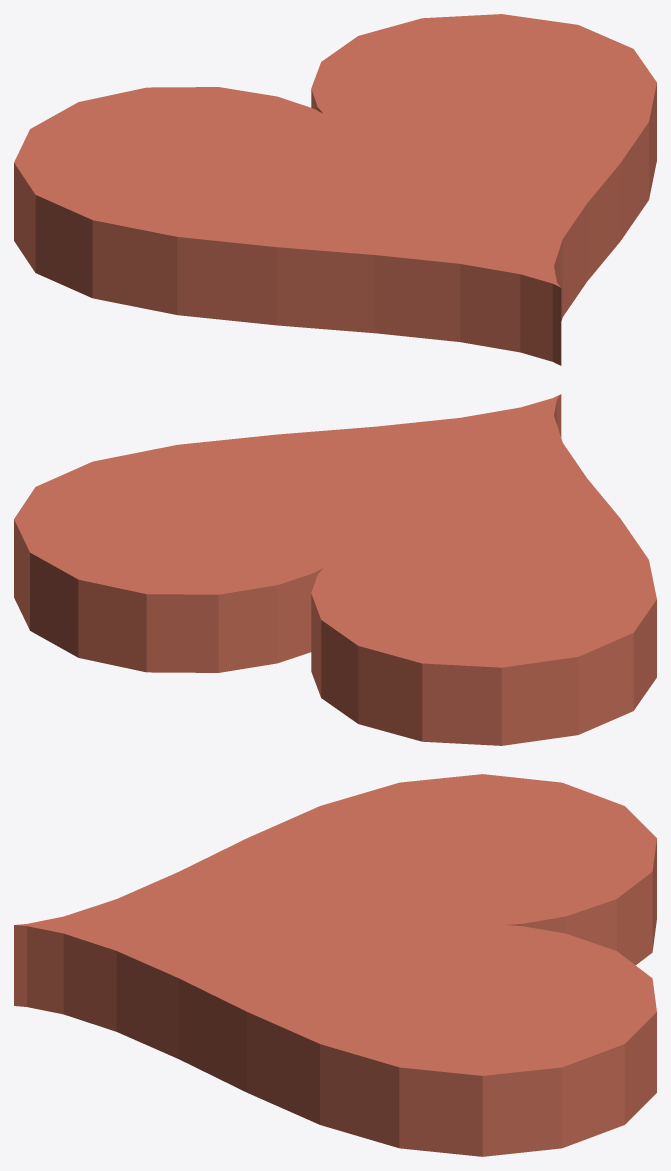
File: tabletop-game-components-heart-marker-d9abe6dd__20879.glb
3 views of the same model, one above another, from view 1: azimuth 30°, elevation 25°; view 2: azimuth 150°, elevation 25°; view 3: azimuth 270°, elevation 25° (orthographic). The views are drawn at different scales.
Parts seen in each view (by area): view 1: heart-marker; view 2: heart-marker; view 3: heart-marker.
Boxes of the visible parts, left/top/right/bottom form: heart-marker: left=14, top=14, right=656, bottom=365; heart-marker: left=14, top=394, right=656, bottom=745; heart-marker: left=14, top=774, right=656, bottom=1156.
Bounding box in the file's own units: 0.032 × 0.004 × 0.0288.
